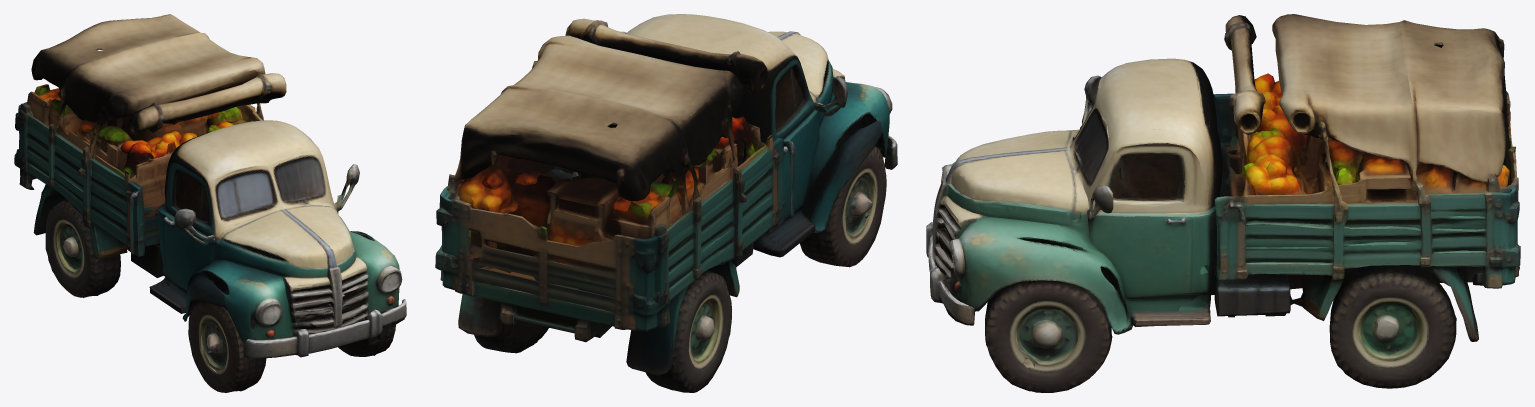
Rendered from unit_trader_truck.glb.
3 renders of one model, left to right at view 1: azimuth 30°, elevation 25°; view 2: azimuth 150°, elevation 25°; view 3: azimuth 270°, elevation 25°, orthographic. The views are drawn at different scales.
Visible parts, largest first — view 1: geometry_0; view 2: geometry_0; view 3: geometry_0.
Boxes of the visible parts, left/top/right/bottom form: geometry_0: left=14, top=14, right=406, bottom=392; geometry_0: left=435, top=14, right=897, bottom=392; geometry_0: left=926, top=14, right=1520, bottom=392.
Bounding box in the file's own units: 0.2185 × 0.2406 × 0.4539.
1 material, 1 textured.
